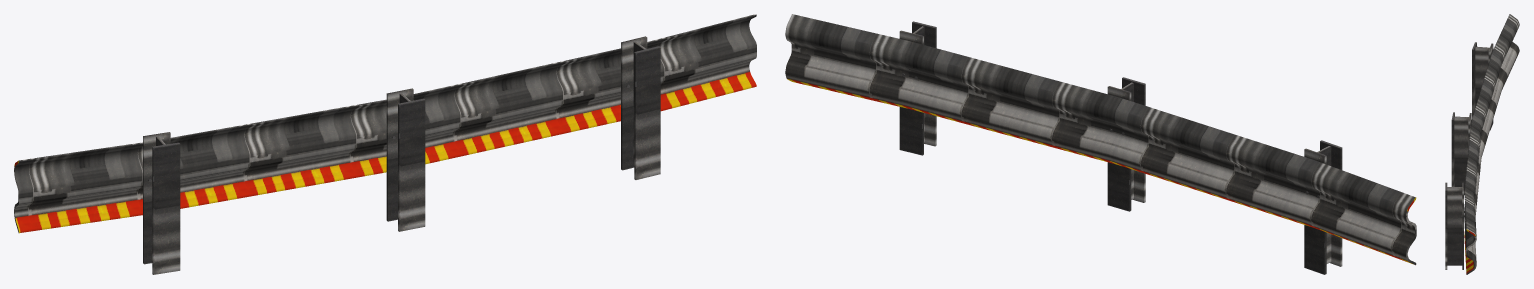
Rendered from Rail 18.FBX.
The picture shows the model from 3 angles, left to right: view 1: azimuth 30°, elevation 25°; view 2: azimuth 150°, elevation 25°; view 3: azimuth 270°, elevation 25°; orthographic projection. The views are drawn at different scales.
Parts seen in each view (by area): view 1: guardrail_small_15deg_in; view 2: guardrail_small_15deg_in; view 3: guardrail_small_15deg_in.
Boxes of the visible parts, x1=… form: guardrail_small_15deg_in: x1=14, y1=14, x2=756, y2=274; guardrail_small_15deg_in: x1=785, y1=14, x2=1416, y2=274; guardrail_small_15deg_in: x1=1445, y1=14, x2=1519, y2=274.
Bounding box in the file's own units: 584 × 101 × 84.84.
